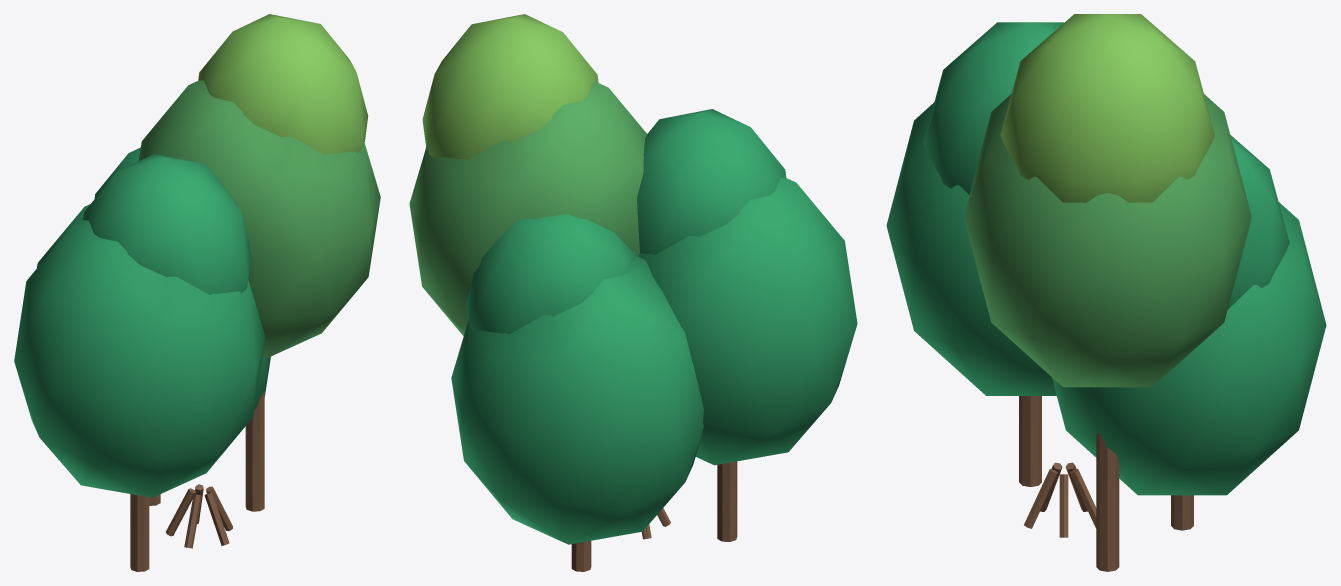
Rendered from tree-thicket-low.glb.
3 renders of one model, left to right at view 1: azimuth 30°, elevation 25°; view 2: azimuth 150°, elevation 25°; view 3: azimuth 270°, elevation 25°, orthographic. The views are drawn at different scales.
Visible parts, largest first — view 1: rounded crown, rounded crown.002, rounded crown.003, branch; view 2: rounded crown, rounded crown.002, rounded crown.003, branch; view 3: rounded crown, rounded crown.002, rounded crown.003, branch.
Part boxes in pixels (box(x1,y1,x2,y2)): rounded crown: box(14, 147, 270, 497); rounded crown.002: box(138, 80, 380, 357); rounded crown.003: box(198, 14, 368, 154); branch: box(130, 391, 264, 571); rounded crown: box(451, 109, 857, 544); rounded crown.002: box(409, 82, 647, 335); rounded crown.003: box(422, 14, 598, 159); branch: box(571, 461, 737, 571); rounded crown: box(886, 22, 1326, 495); rounded crown.002: box(963, 94, 1251, 387); rounded crown.003: box(1000, 14, 1214, 202); branch: box(1019, 396, 1193, 571).
Bounding box in the file's own units: 1.9 × 2.43 × 1.71.
